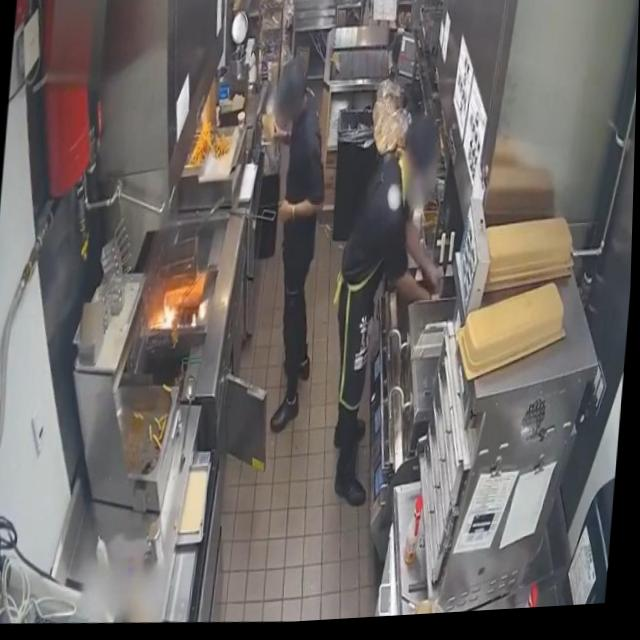fire: (157, 303, 184, 335)
